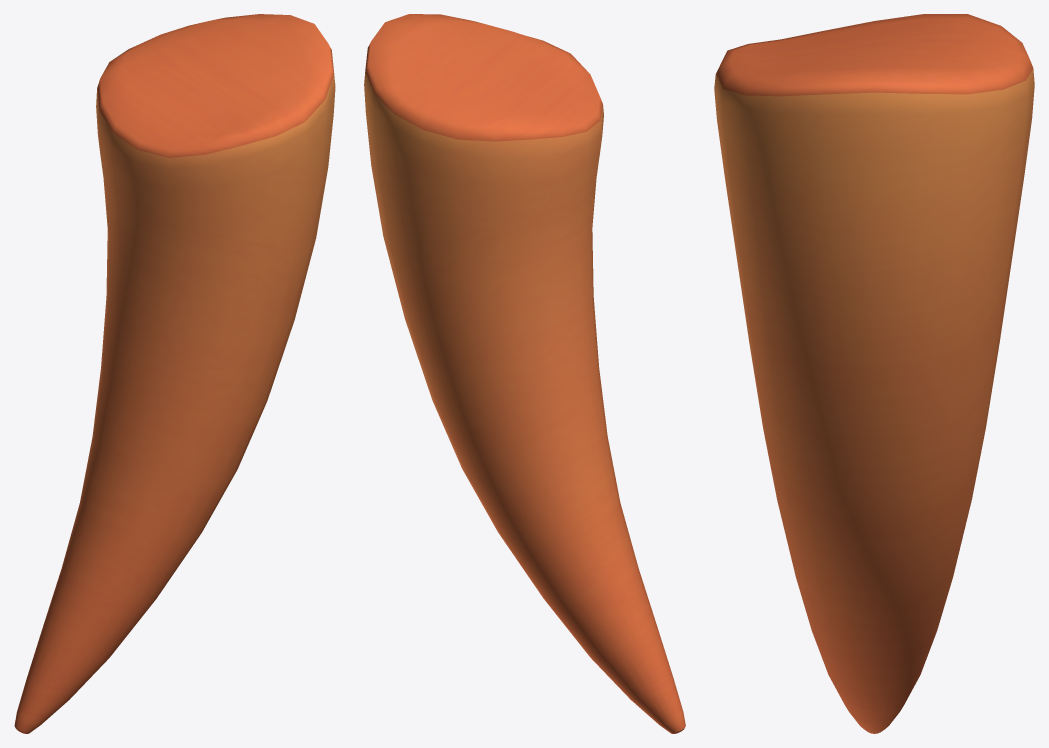
The model's file is Ingredient_Tooth.fbx.
3 views of the same model, side by side, from view 1: azimuth 30°, elevation 25°; view 2: azimuth 150°, elevation 25°; view 3: azimuth 270°, elevation 25° (orthographic). The views are drawn at different scales.
Visible parts, largest first — view 1: Ingredient_Tooth; view 2: Ingredient_Tooth; view 3: Ingredient_Tooth.
Part boxes in pixels (x1=…): Ingredient_Tooth: x1=14, y1=14, x2=335, y2=733; Ingredient_Tooth: x1=364, y1=14, x2=685, y2=733; Ingredient_Tooth: x1=714, y1=14, x2=1034, y2=733.
Size of the model in its own units: 65.76 by 132 by 45.84.
1 material, 1 textured.
